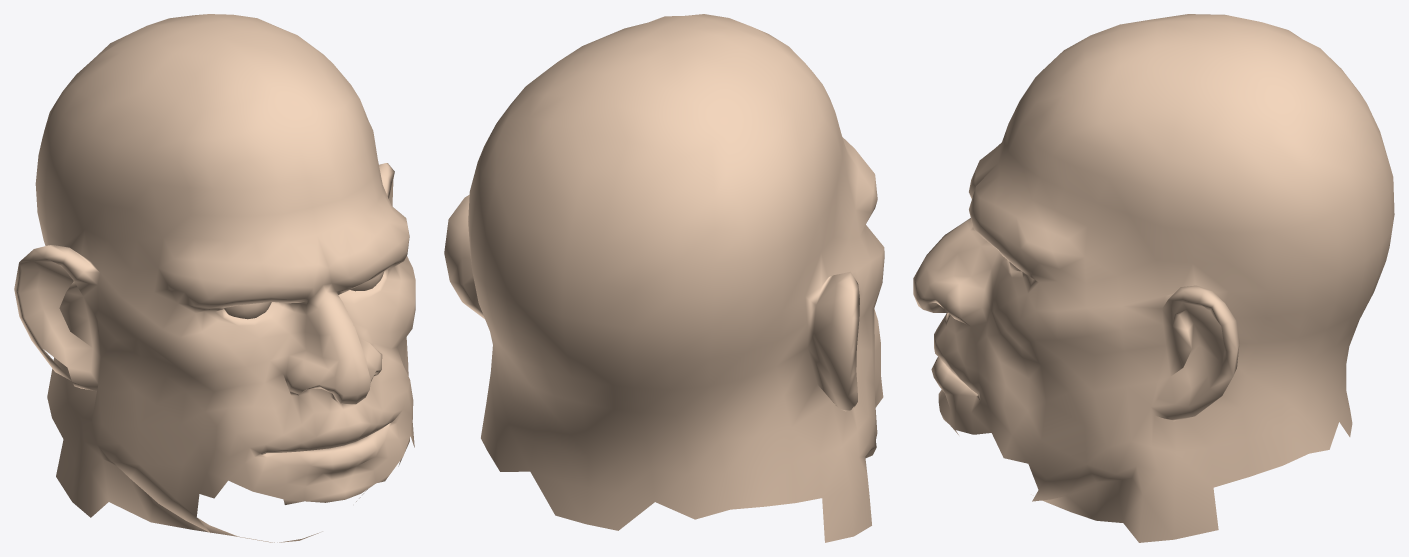
Rendered from head_dwarf.glb.
3 renders of one model, left to right at view 1: azimuth 30°, elevation 25°; view 2: azimuth 150°, elevation 25°; view 3: azimuth 270°, elevation 25°, orthographic. The views are drawn at different scales.
Parts seen in each view (by area): view 1: racial_head; view 2: racial_head; view 3: racial_head.
Boxes of the visible parts, left/top/right/bottom form: racial_head: left=14, top=14, right=415, bottom=542; racial_head: left=444, top=14, right=884, bottom=542; racial_head: left=913, top=14, right=1394, bottom=542.
Bounding box in the file's own units: 0.2431 × 0.2777 × 0.2664.
